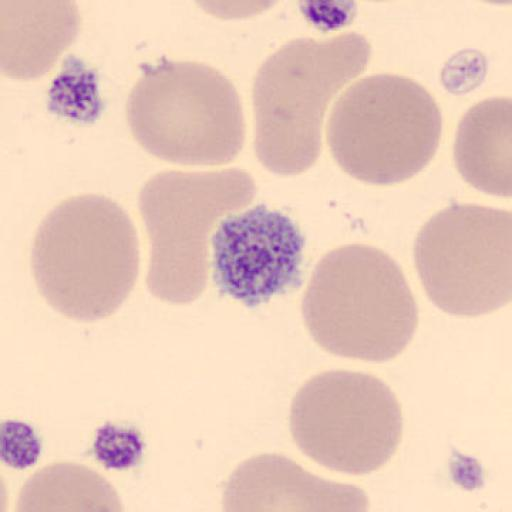Platelet: (206, 204, 310, 308), (44, 58, 110, 127), (88, 416, 150, 474), (437, 43, 492, 99), (0, 414, 48, 472), (294, 0, 361, 35)
RBC: (250, 31, 374, 179), (138, 166, 260, 307), (28, 191, 143, 325), (298, 240, 420, 365), (325, 70, 444, 188), (124, 56, 246, 168), (286, 367, 404, 478), (409, 200, 512, 320), (250, 46, 332, 178), (137, 174, 217, 308), (220, 450, 372, 512), (0, 0, 82, 83), (451, 93, 512, 200), (11, 460, 127, 512), (185, 0, 291, 21)
